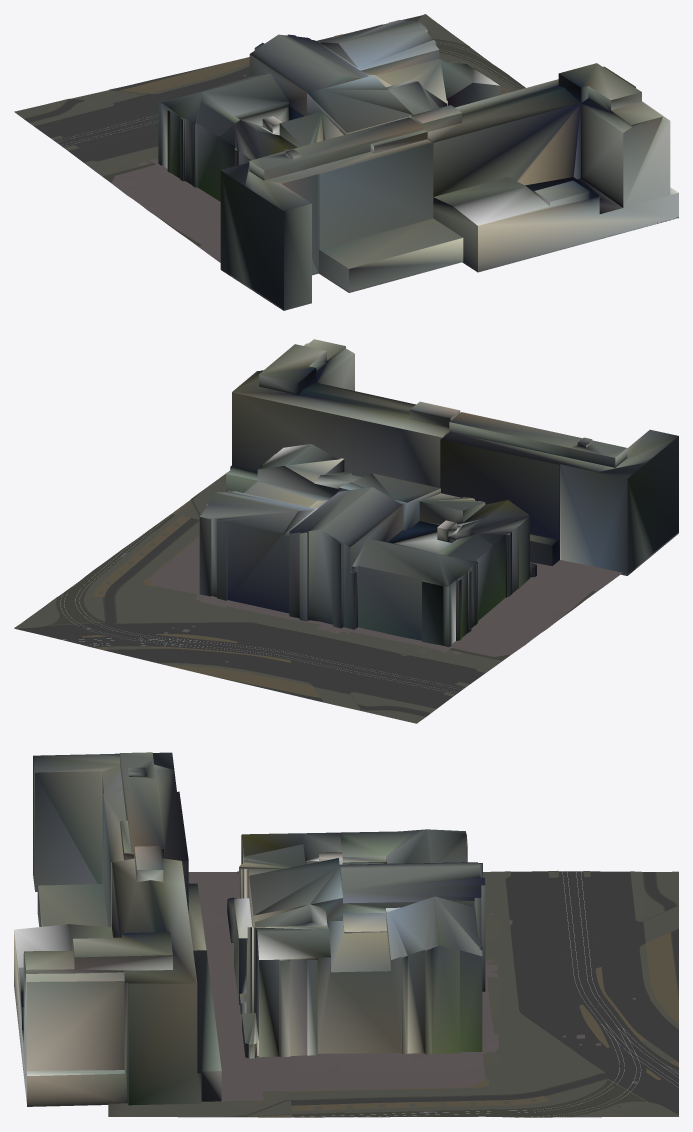
3 renders of one model, top to bottom at view 1: azimuth 30°, elevation 25°; view 2: azimuth 150°, elevation 25°; view 3: azimuth 270°, elevation 25°, orthographic. The views are drawn at different scales.
Visible parts, largest first — view 1: c_m04_m01; view 2: c_m04_m01; view 3: c_m04_m01.
Part boxes in pixels (x1=…): c_m04_m01: x1=14, y1=14, x2=678, y2=310; c_m04_m01: x1=14, y1=339, x2=678, y2=723; c_m04_m01: x1=14, y1=752, x2=678, y2=1117.
Size of the model in its own units: 129 by 34.58 by 149.
